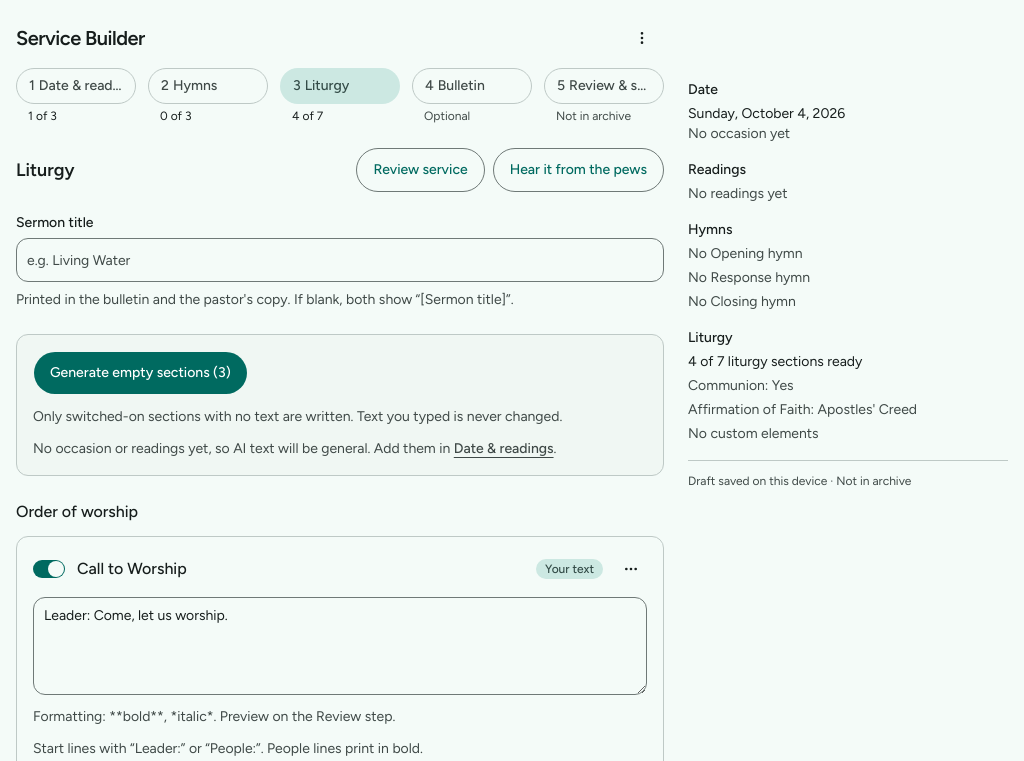
Test: Hear it from the pews (pew voices spec) › shows the server's 422 for no voice turned on, and its own words for a 404
The width and height of the screenshot is (1024, 761).
Click the button "Hear it from the pews". click: x=578, y=170
box: [493,148,664,192]
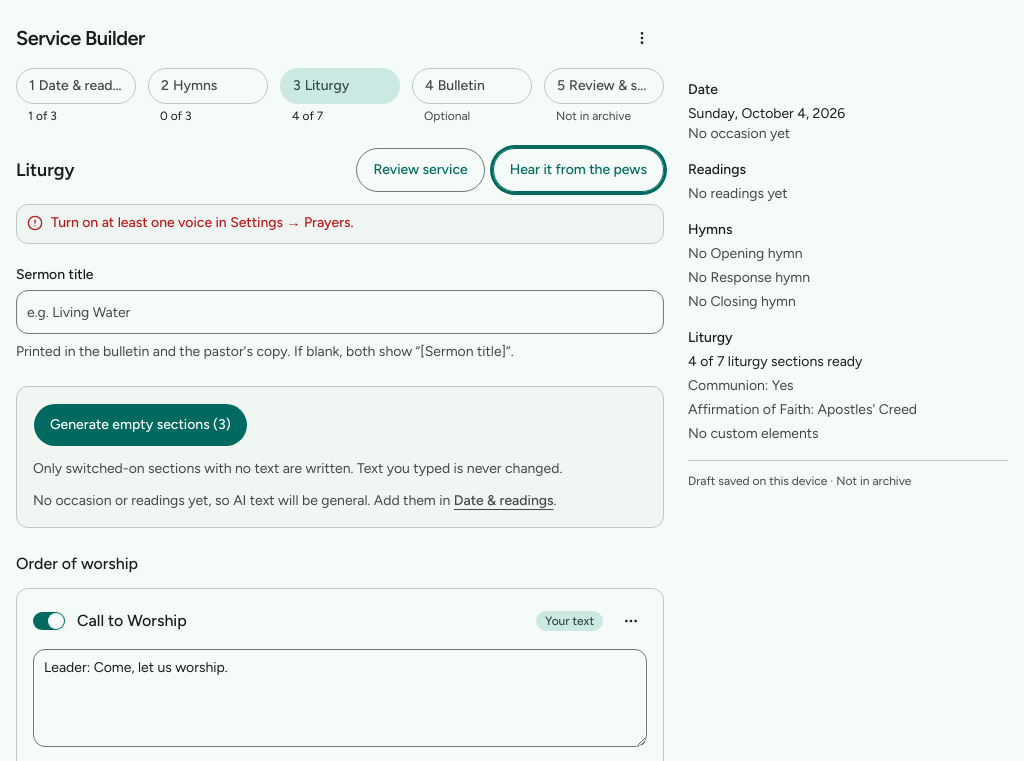
Expected: the message reads "Turn on at least one voice in Settings → Prayers.", [51,214,354,231]
Click the button "Hear it from the pews". click: x=578, y=170
box: [493,148,664,192]
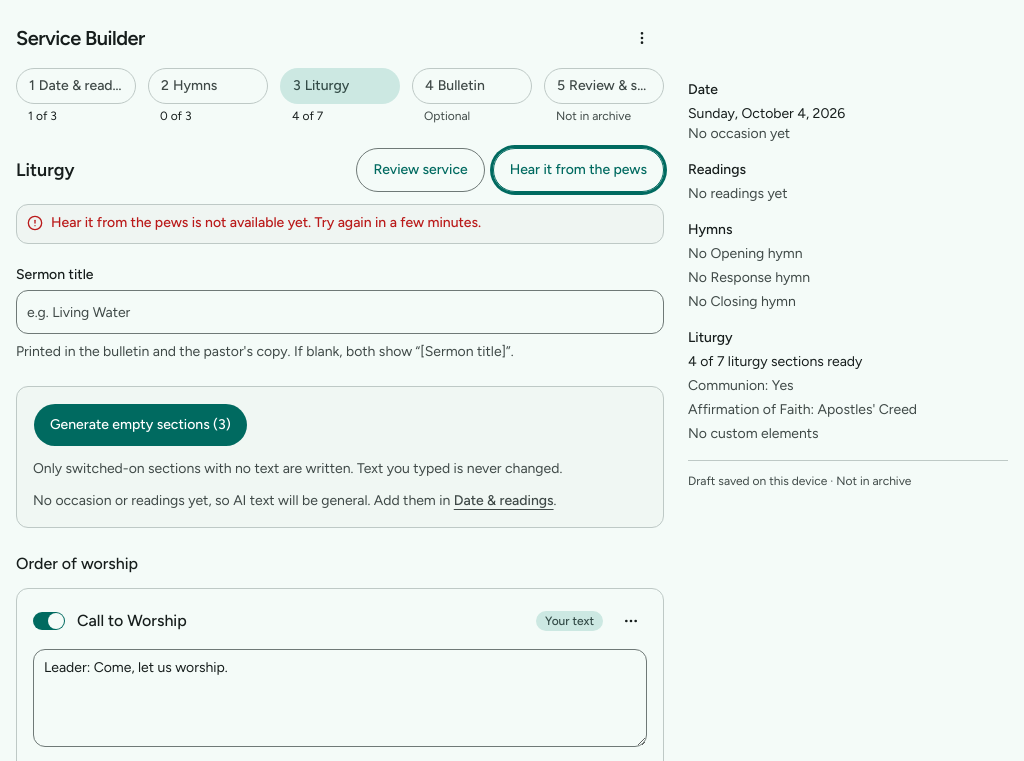
Expected: the message does not show "hymn"
Expected: the message reads "Hear it from the pews is not available yet. Try again in a few minutes.", [51,214,481,231]
